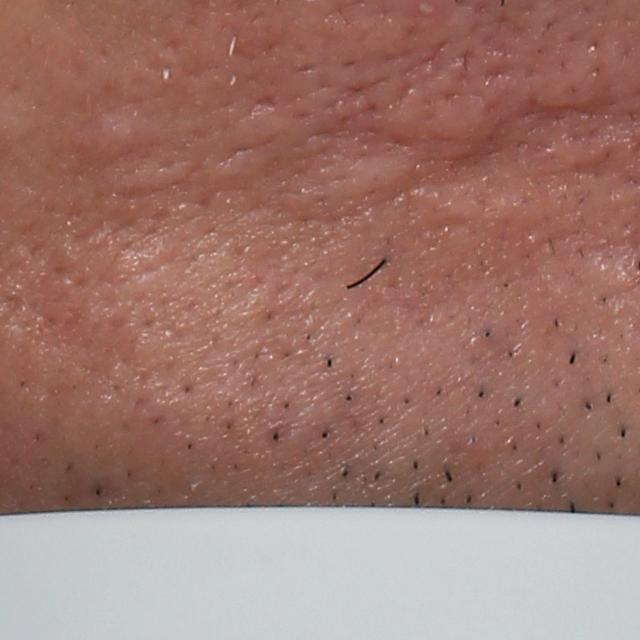atrophic_scar: (245, 88, 277, 120)
hypertrophic_scar: (282, 151, 413, 212), (376, 93, 496, 157), (80, 103, 152, 155), (528, 77, 601, 113)
